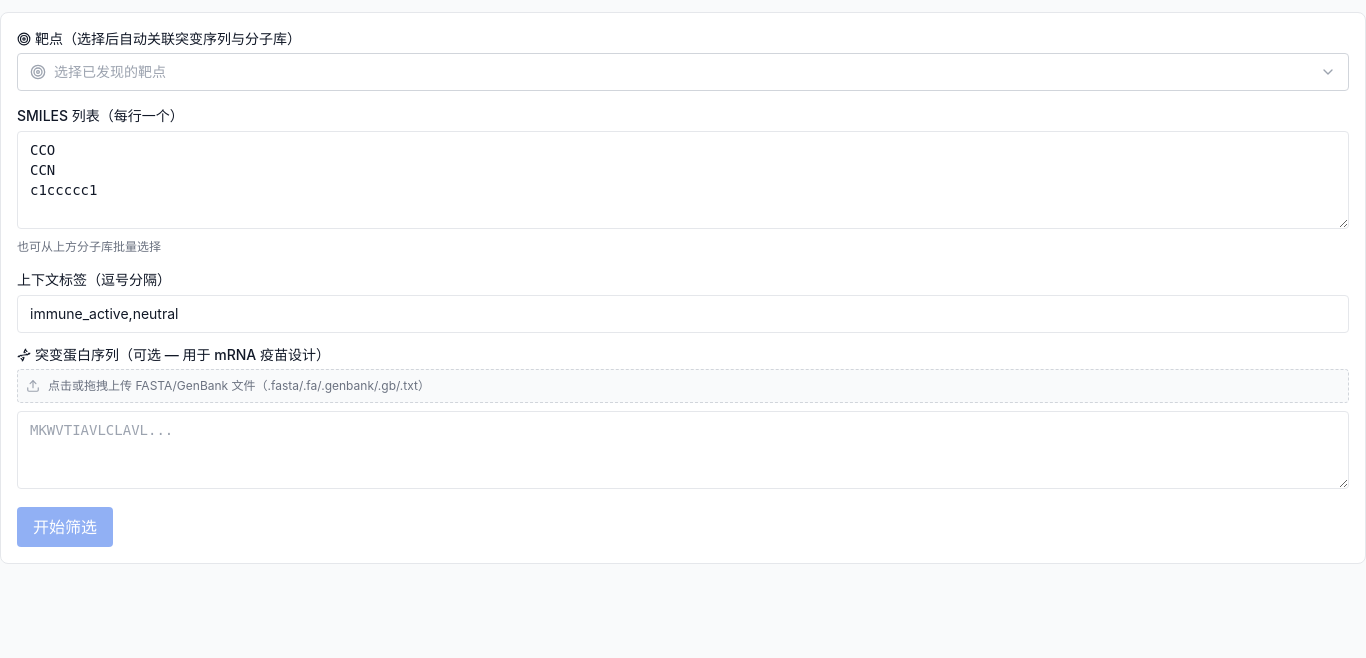
Test: ScreeningPage › 筛选成功后展示条件放大器高亮
Click the text "选择已发现的靶点" at [110, 72], box [54,63,166,80]
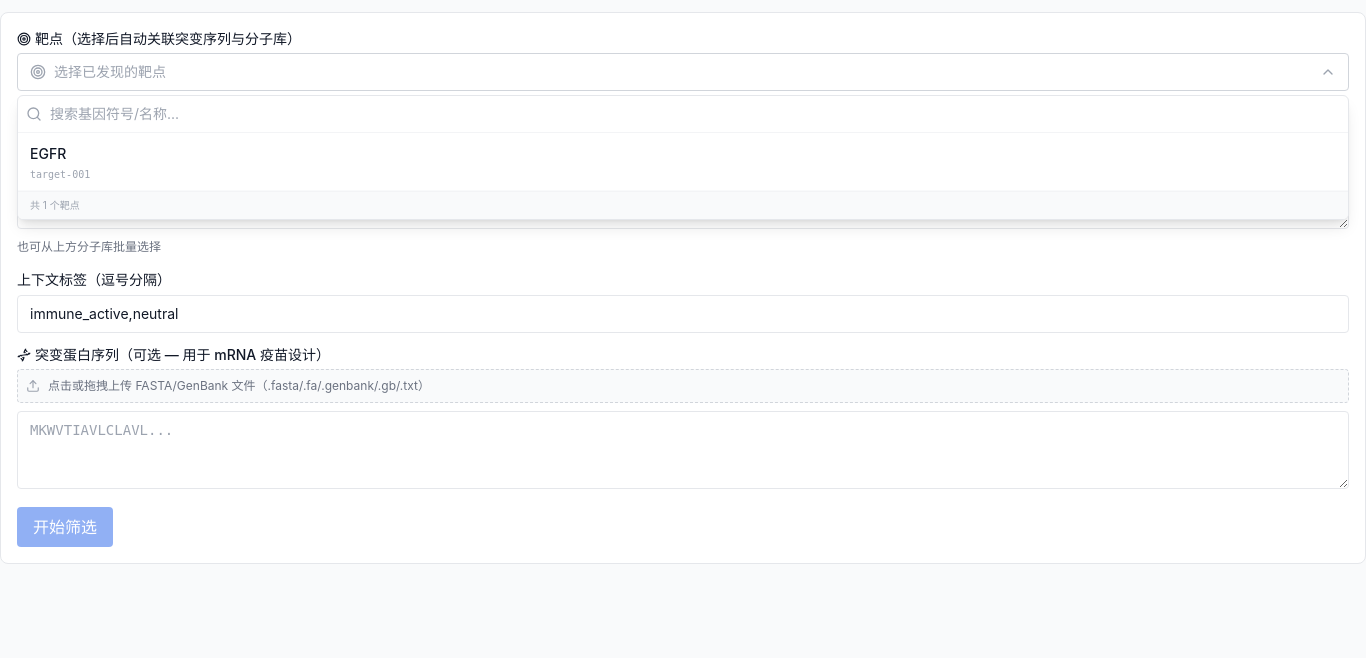
Check: the text "EGFR" is shown
Click the text "EGFR" at [48, 154], box [30,145,66,162]
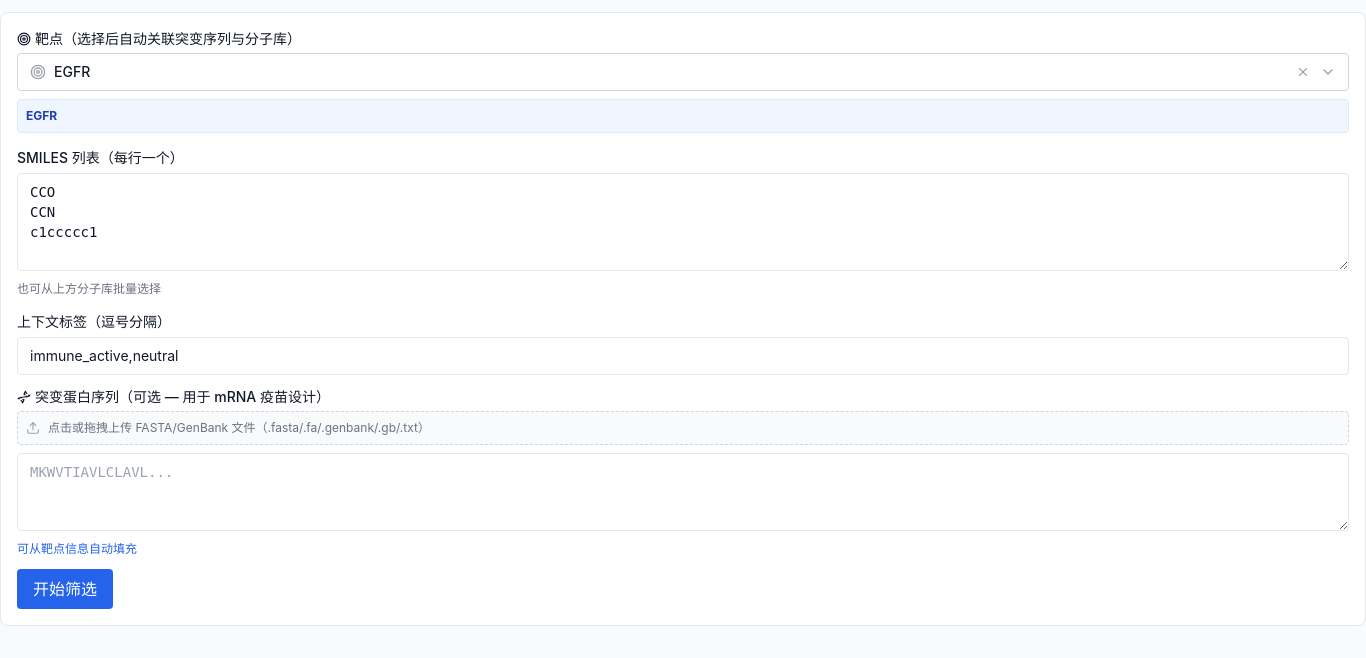
Check: the button "开始筛选" is enabled
Click the button "开始筛选" at [65, 589], box [17,569,113,609]
(page scrolled)
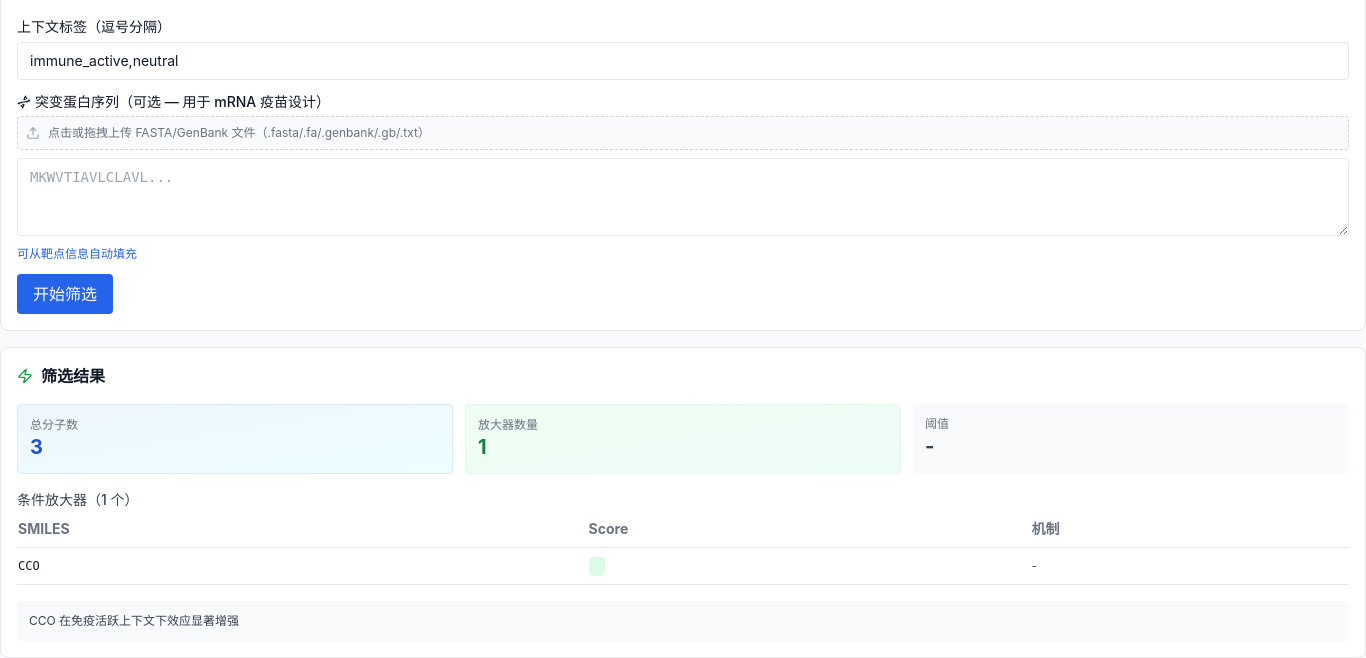
Check: the heading "条件放大器（1 个）" is shown, box [17,491,138,508]
Check: the text "CCO 在免疫活跃上下文下效应显著增强" is shown, box [17,601,1349,641]
